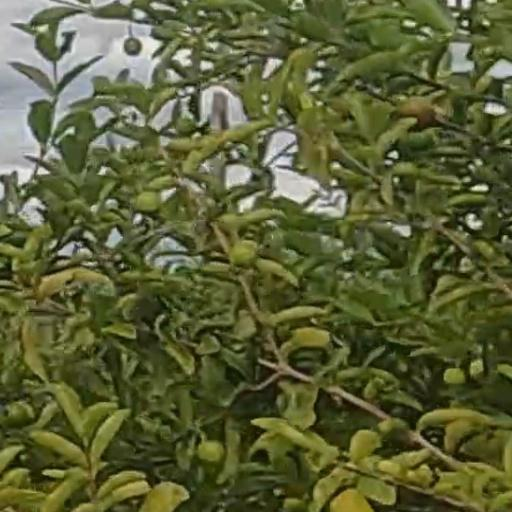acerola: (398, 97, 433, 124), (124, 39, 140, 55)
